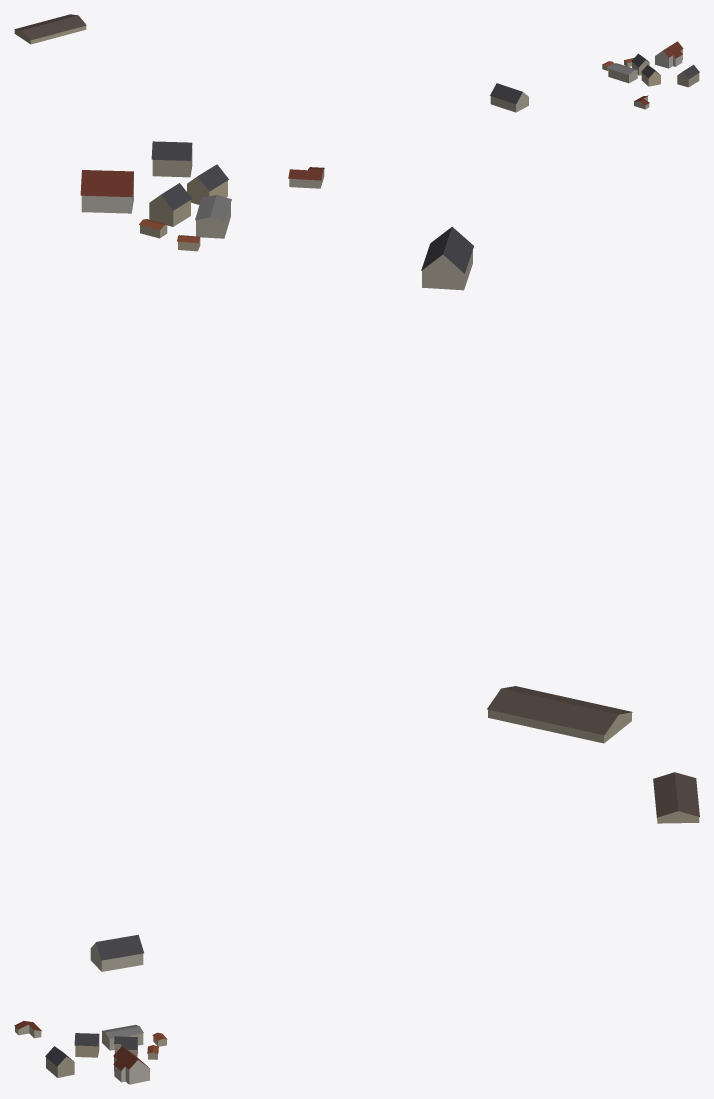
3 renders of one model, top to bottom at view 1: azimuth 30°, elevation 25°; view 2: azimuth 150°, elevation 25°; view 3: azimuth 270°, elevation 25°, orthographic. The views are drawn at different scales.
Visible parts, largest first — view 1: buildings; view 2: buildings; view 3: buildings.
Part boxes in pixels (bbox=[...]): buildings: bbox=[14, 14, 699, 112]; buildings: bbox=[80, 141, 632, 743]; buildings: bbox=[14, 772, 699, 1084].
Bounding box in the file's own units: 337 × 20.04 × 310.
